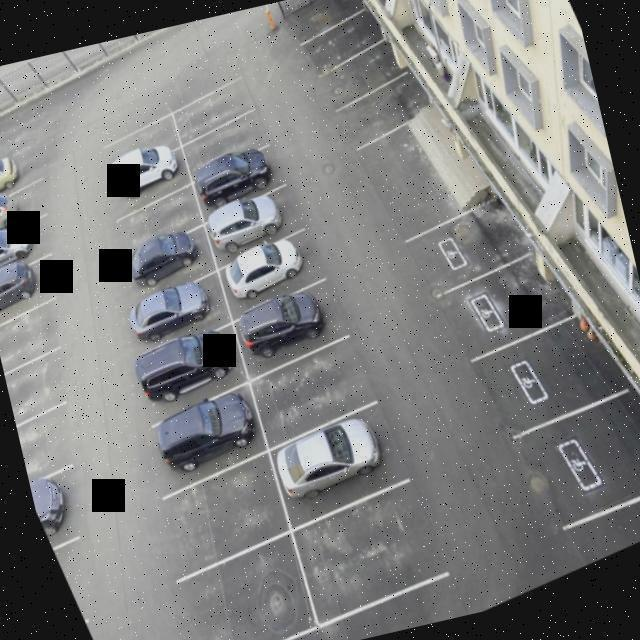space-empty: (278, 475, 452, 638), (498, 366, 640, 546), (458, 297, 627, 442), (135, 445, 304, 586), (153, 531, 329, 640), (234, 329, 390, 449), (424, 241, 570, 361), (389, 192, 531, 297), (323, 68, 439, 151), (302, 31, 418, 114), (12, 394, 91, 491), (289, 4, 392, 77), (111, 179, 208, 256), (161, 73, 260, 146), (177, 109, 277, 180), (0, 344, 80, 429), (97, 109, 186, 175), (0, 299, 73, 372)
space-occupied: (261, 397, 409, 521), (139, 380, 272, 495), (224, 274, 358, 386), (120, 315, 253, 419), (115, 260, 239, 361), (196, 179, 316, 270), (221, 225, 330, 317), (190, 140, 295, 222), (113, 219, 216, 298), (104, 142, 196, 219), (27, 465, 85, 553), (0, 251, 66, 325), (0, 211, 56, 282), (0, 143, 46, 210), (0, 181, 48, 244)
